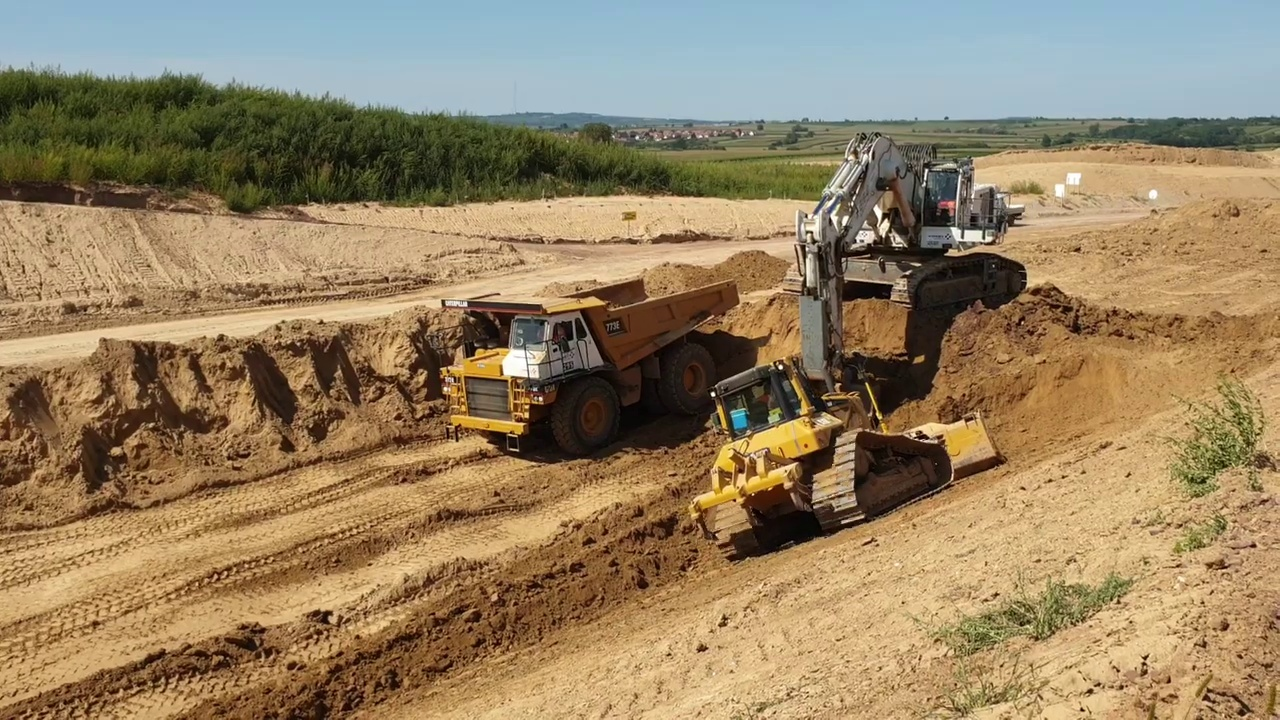bulldozer: (687, 352, 1015, 564)
excavator: (756, 127, 1030, 465)
truck: (432, 275, 749, 468)
